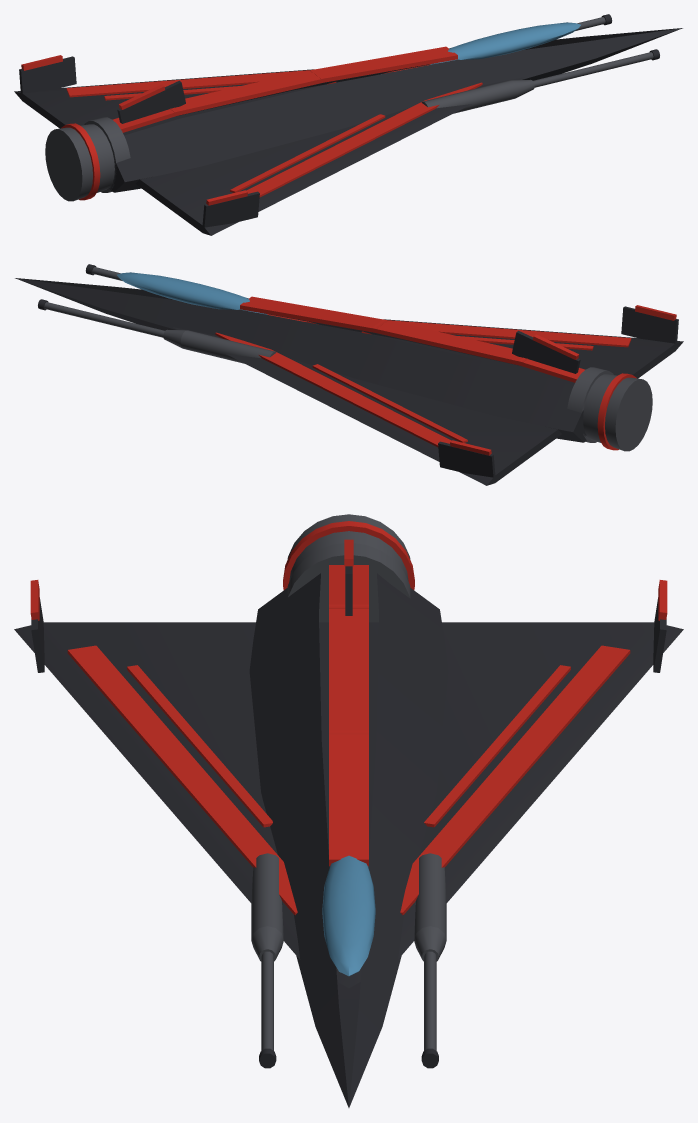
Rendered from interceptor.glb.
3 views of the same model, one above another, from view 1: azimuth 30°, elevation 25°; view 2: azimuth 150°, elevation 25°; view 3: azimuth 270°, elevation 25° (orthographic). The views are drawn at different scales.
Parts seen in each view (by area): view 1: interceptor_syndicate_hull, interceptor_syndicate_red, interceptor_gunmetal, interceptor_canopy_glass; view 2: interceptor_syndicate_hull, interceptor_syndicate_red, interceptor_gunmetal, interceptor_canopy_glass; view 3: interceptor_syndicate_hull, interceptor_syndicate_red, interceptor_gunmetal, interceptor_canopy_glass.
Boxes of the visible parts, x1,y1,x2,y2 form: interceptor_syndicate_hull: (14,14,682,235); interceptor_syndicate_red: (21,46,482,205); interceptor_gunmetal: (45,17,653,201); interceptor_canopy_glass: (430,22,580,64); interceptor_syndicate_hull: (15,264,683,485); interceptor_syndicate_red: (215,296,676,455); interceptor_gunmetal: (44,267,652,451); interceptor_canopy_glass: (117,272,267,314); interceptor_syndicate_hull: (14,566,683,1107); interceptor_syndicate_red: (30,521,667,915); interceptor_gunmetal: (251,514,446,1050); interceptor_canopy_glass: (322,855,375,976).
Size of the model in its own units: 12.7 by 1.78 by 7.
